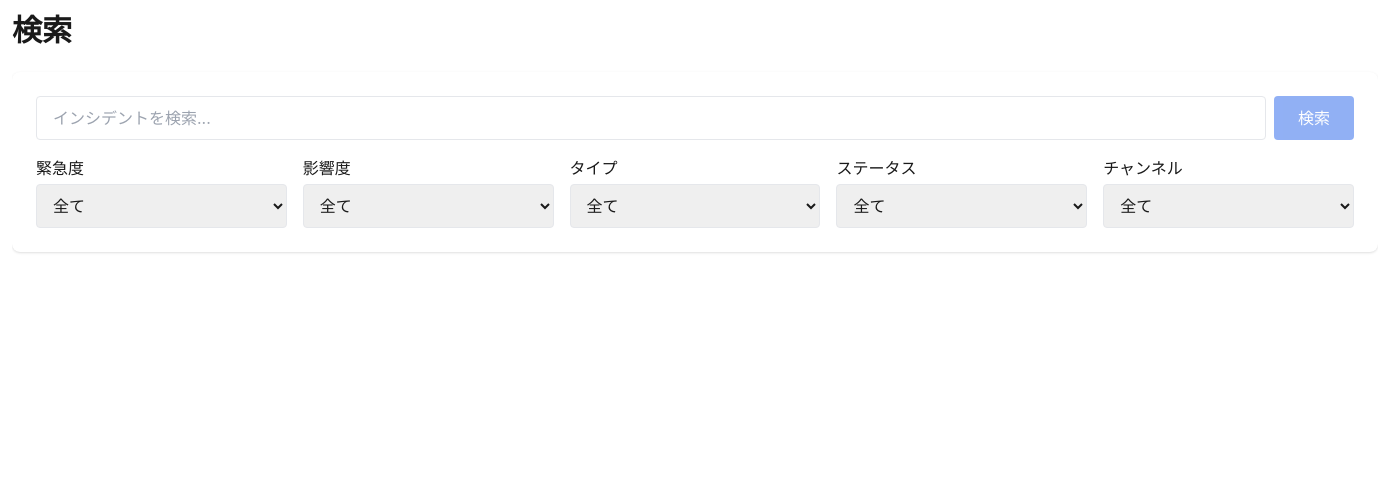
Test: Accessibility Tests (Red phase) › Screen Reader Support › Status messages are announced
Check: the heading "検索" is shown, box 12,12 -> 72,48
Type "test" into the field with placeholder "インシデントを検索..." at [651, 118], box 36,96 -> 1266,140
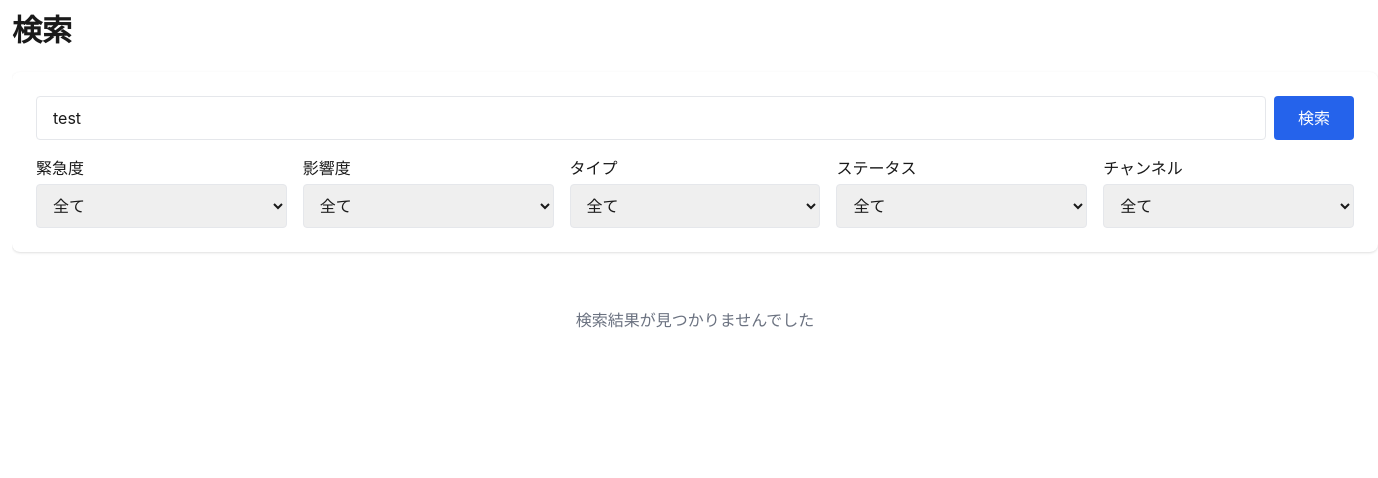
Click the button "検索" at [1314, 118], box 1274,96 -> 1354,140
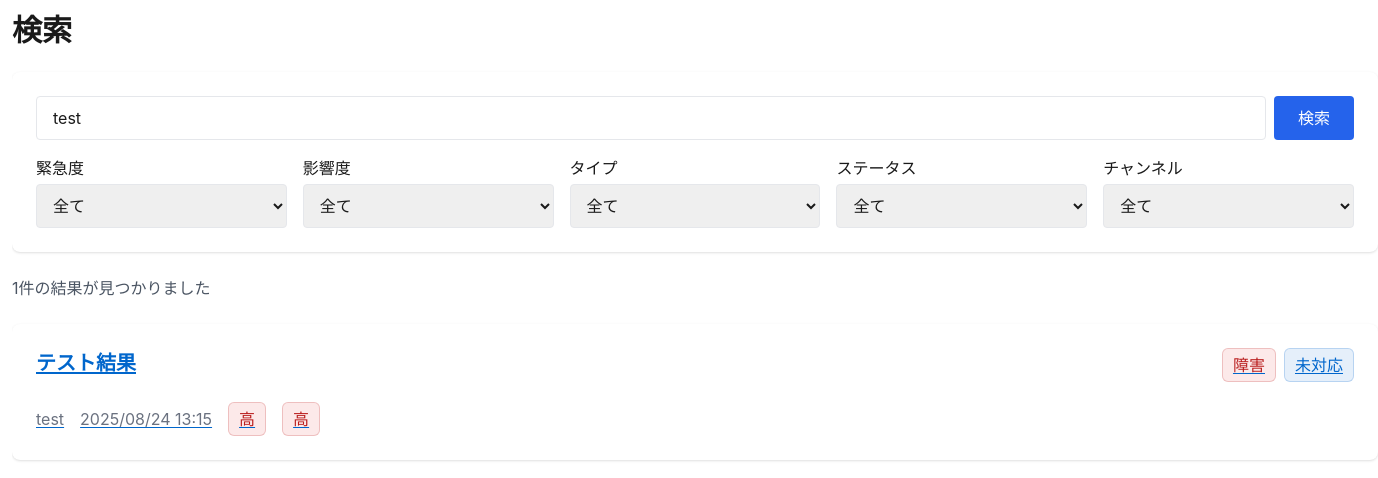
Check: the message "1件の結果が見つかりました" is shown, box 12,278 -> 210,298
